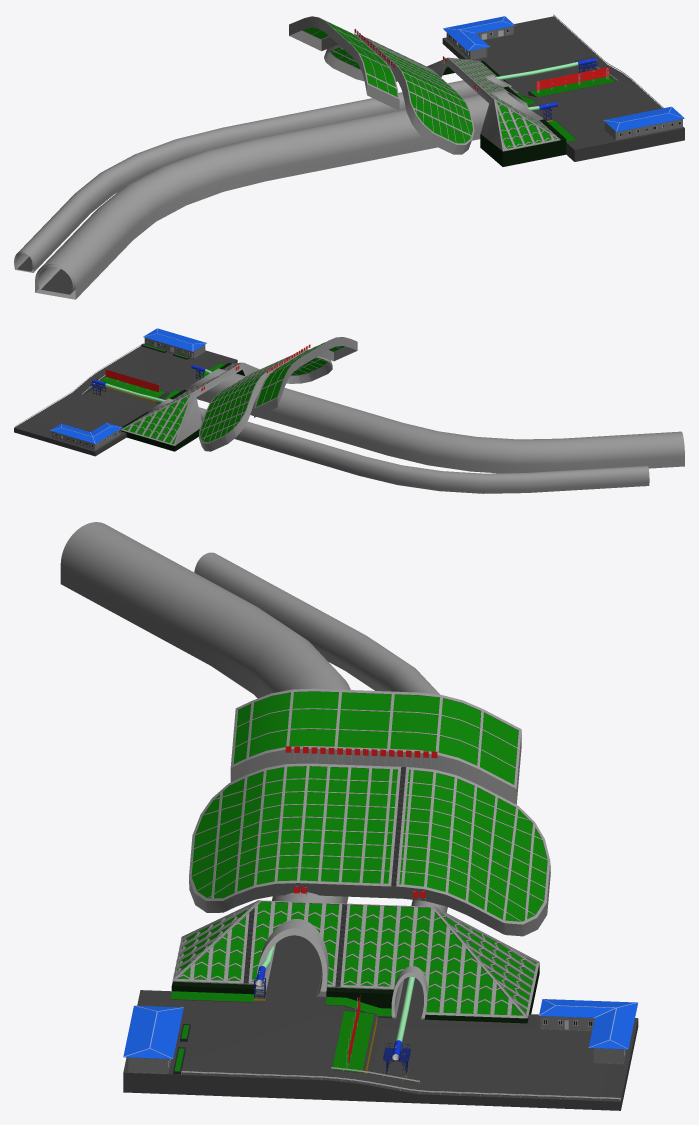
File: building.FBX
3 views of the same model, one above another, from view 1: azimuth 30°, elevation 25°; view 2: azimuth 150°, elevation 25°; view 3: azimuth 270°, elevation 25° (orthographic). The views are drawn at different scales.
Parts seen in each view (by area): view 1: jianzhu; view 2: jianzhu; view 3: jianzhu.
Part boxes in pixels (x1,y1,x2,y2): jianzhu: [14, 14, 684, 299]; jianzhu: [14, 328, 684, 493]; jianzhu: [60, 522, 638, 1110].
Bounding box in the file's own units: 251 × 41.62 × 115.
